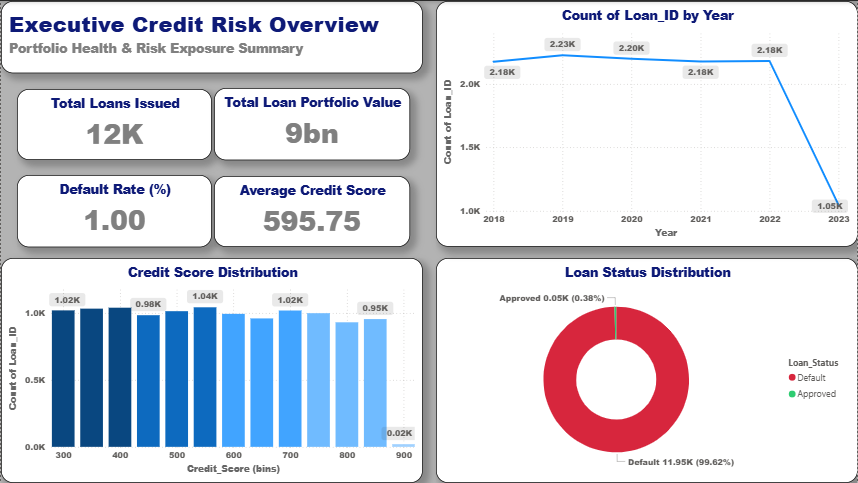

This screenshot's page, from the dashboard's own definition file:
{"tool":"powerbi","page":{"name":"Page 1","canvas":[1280,720],"ordinal":0},"visuals":[{"type":"textbox","box":[0,0,630.4,107.6],"z":0},{"type":"cardVisual","title":"Total Loans Issued","fields":{"Data":["CountNonNull(banking_project credit_risk_data.Loan_ID)"]},"box":[23.9,131.5,291.3,106.1],"z":1000},{"type":"cardVisual","title":"Total Loan Portfolio Value","fields":{"Data":["Sum(banking_project credit_risk_data.Loan_Amount)"]},"box":[318.2,130,292.8,107.6],"z":2000},{"type":"cardVisual","title":"Default Rate (%)","fields":{"Data":["banking_project credit_risk_data.Default Rate %"]},"box":[23.9,259.9,291.3,107.6],"z":3000},{"type":"cardVisual","title":"Average Credit Score","fields":{"Data":["banking_project credit_risk_data.Average Credit Score"]},"box":[318.2,261.4,292.8,106.1],"z":4000},{"type":"donutChart","title":"Loan Status Distribution","fields":{"Category":["banking_project credit_risk_data.Loan_Status"],"Y":["CountNonNull(banking_project credit_risk_data.Loan_ID)"]},"box":[649.8,383.9,630.4,336.1],"z":5000},{"type":"clusteredColumnChart","title":"Credit Score Distribution","fields":{"Category":["banking_project credit_risk_data.Credit_Score (bins)"],"Y":["CountNonNull(banking_project credit_risk_data.Loan_ID)"]},"box":[0,383.9,630.4,336.1],"z":6000},{"type":"lineChart","fields":{"Category":["banking_project credit_risk_data.Application_Date.Variation.Date Hierarchy.Year"],"Y":["CountNonNull(banking_project credit_risk_data.Loan_ID)"]},"box":[649.8,0,630.4,367.5],"z":7000}]}

Visuals, with their boxes in screenshot pixels (x1, y1, x2, y2), scaled from the page's 1280x720 canvas onto the 858x483 screenshot:
textbox: [0,0,423,72]
"Total Loans Issued" cardVisual: [16,88,211,159]
"Total Loan Portfolio Value" cardVisual: [213,87,410,159]
"Default Rate (%)" cardVisual: [16,174,211,247]
"Average Credit Score" cardVisual: [213,175,410,247]
"Loan Status Distribution" donutChart: [436,258,857,482]
"Credit Score Distribution" clusteredColumnChart: [0,258,423,482]
lineChart - banking_project credit_risk_data.Application_Date.Variation.Date Hierarchy.Year x CountNonNull(banking_project credit_risk_data.Loan_ID): [436,0,857,247]
